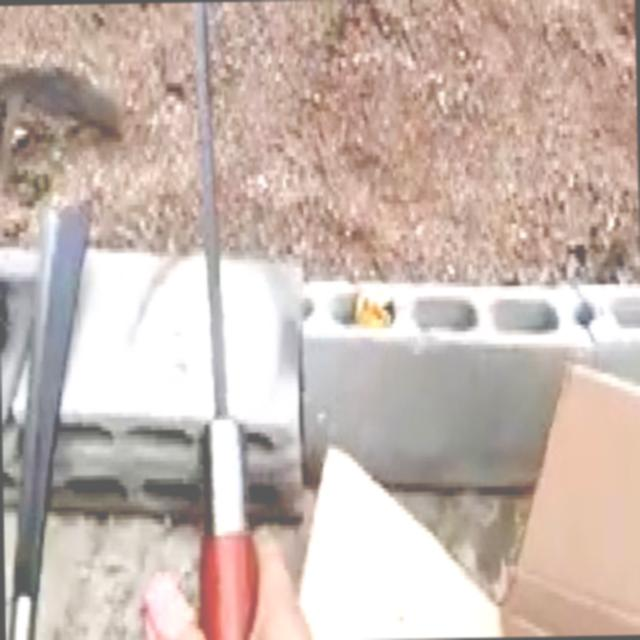eto: (190, 2, 256, 640)
